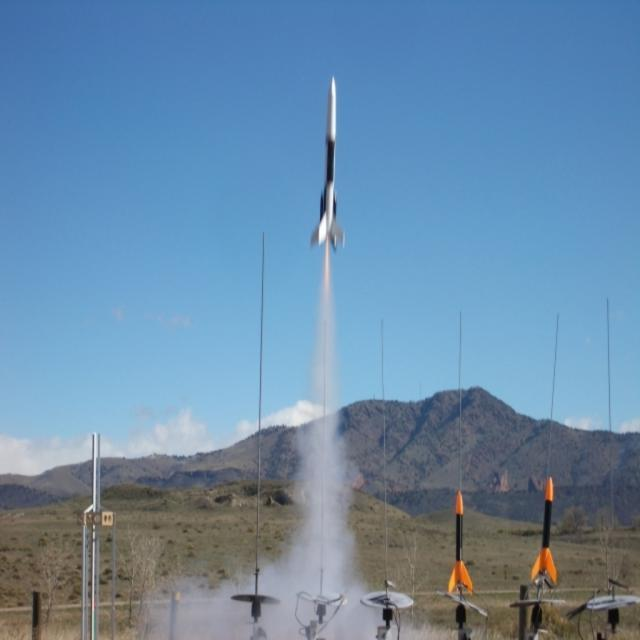missile: (311, 75, 346, 252), (531, 476, 559, 584), (446, 486, 474, 594)
